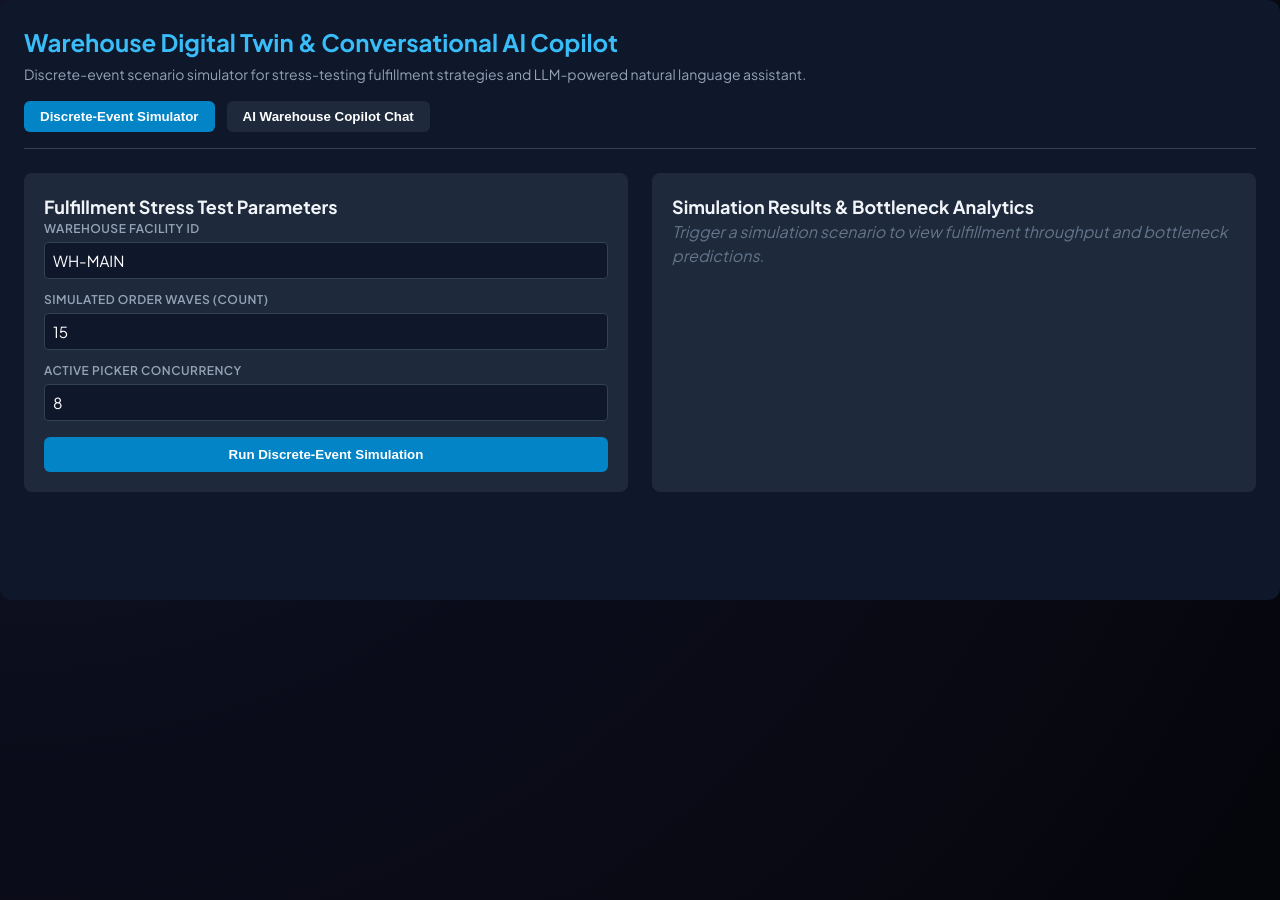
DigitalTwinCopilotPanel › switches between simulator and copilot tabs
# Switch to Copilot tab
Click the button "AI Warehouse Copilot Chat": (328, 116) [226,101,430,132]
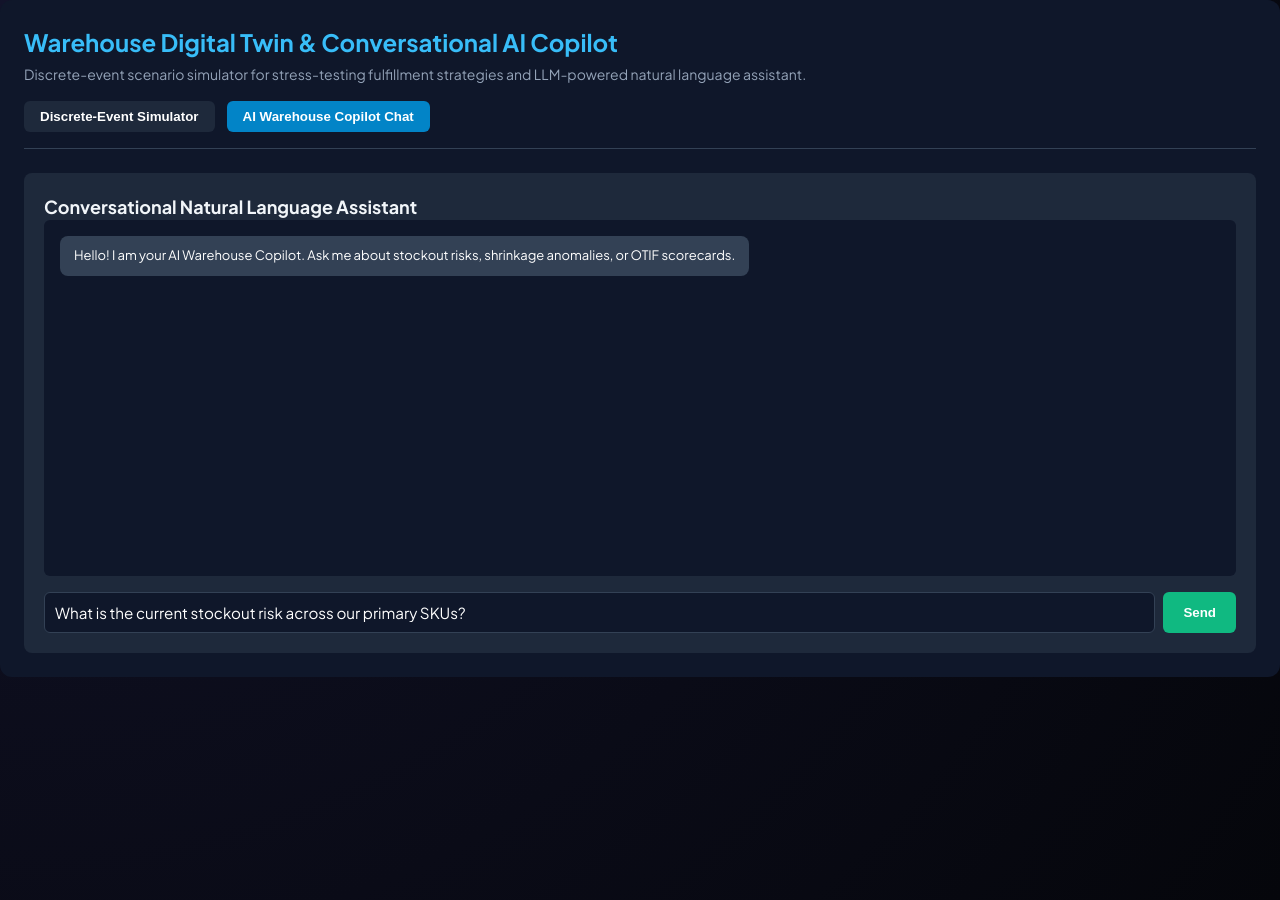
Expected: the heading "Conversational Natural Language Assistant" is shown, [44,195,417,218]
Expected: the field with placeholder "Ask Copilot about stock levels, shrinkage, or OTIF scorecards..." is shown, [44,592,1155,633]
Expected: the button "Send" is shown, [1163,592,1236,633]
# Switch back to Simulator tab
Click the button "Discrete-Event Simulator": (119, 116) [24,101,214,132]
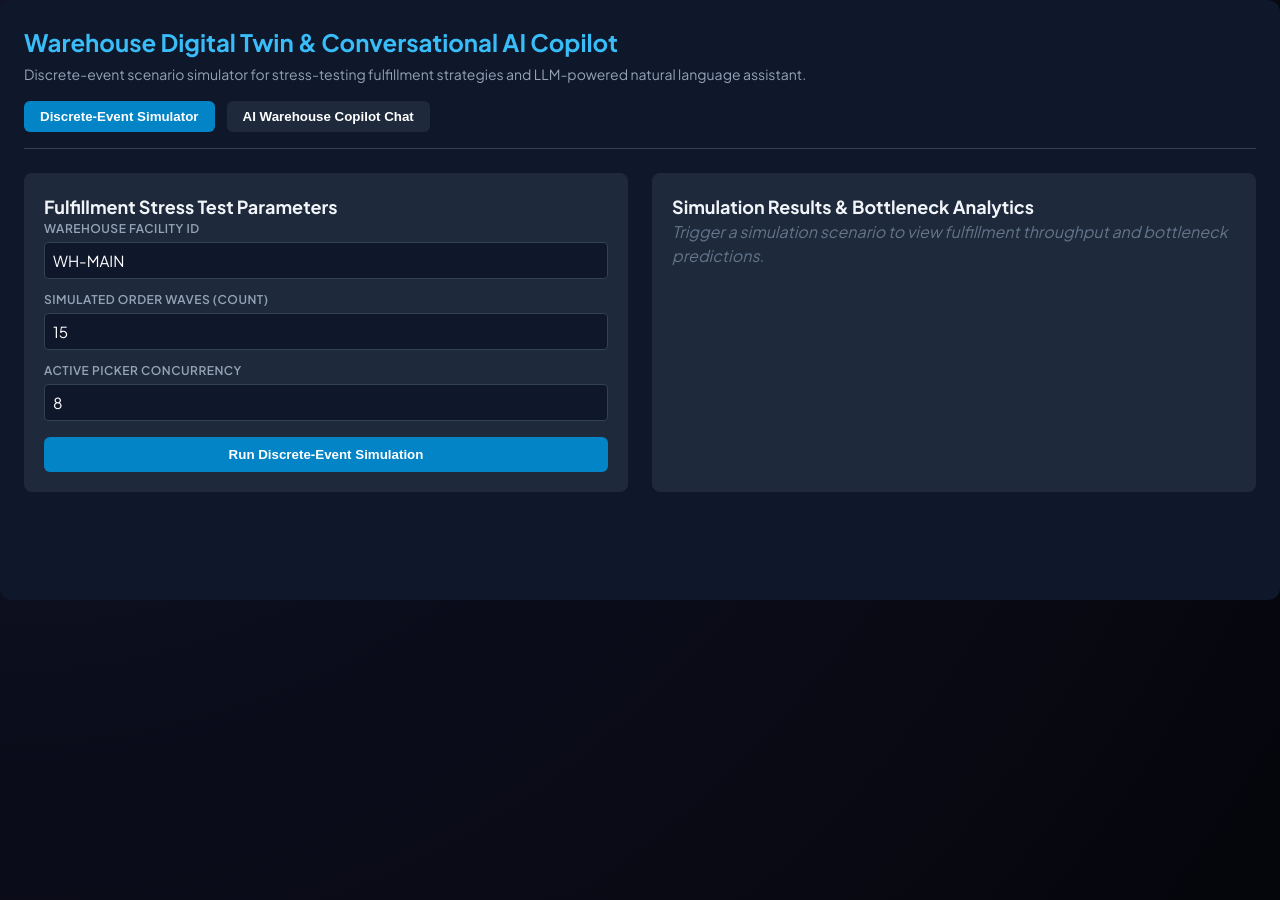
Expected: the heading "Fulfillment Stress Test Parameters" is shown, [44,195,338,218]
